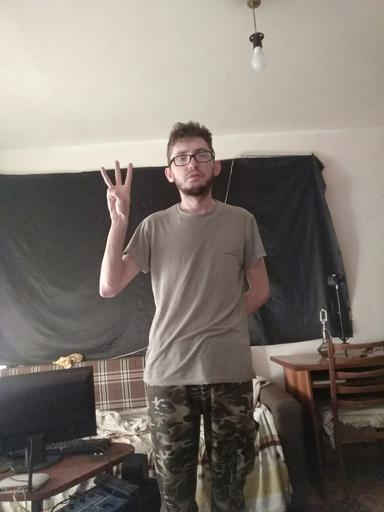three: (99, 159, 135, 220)
